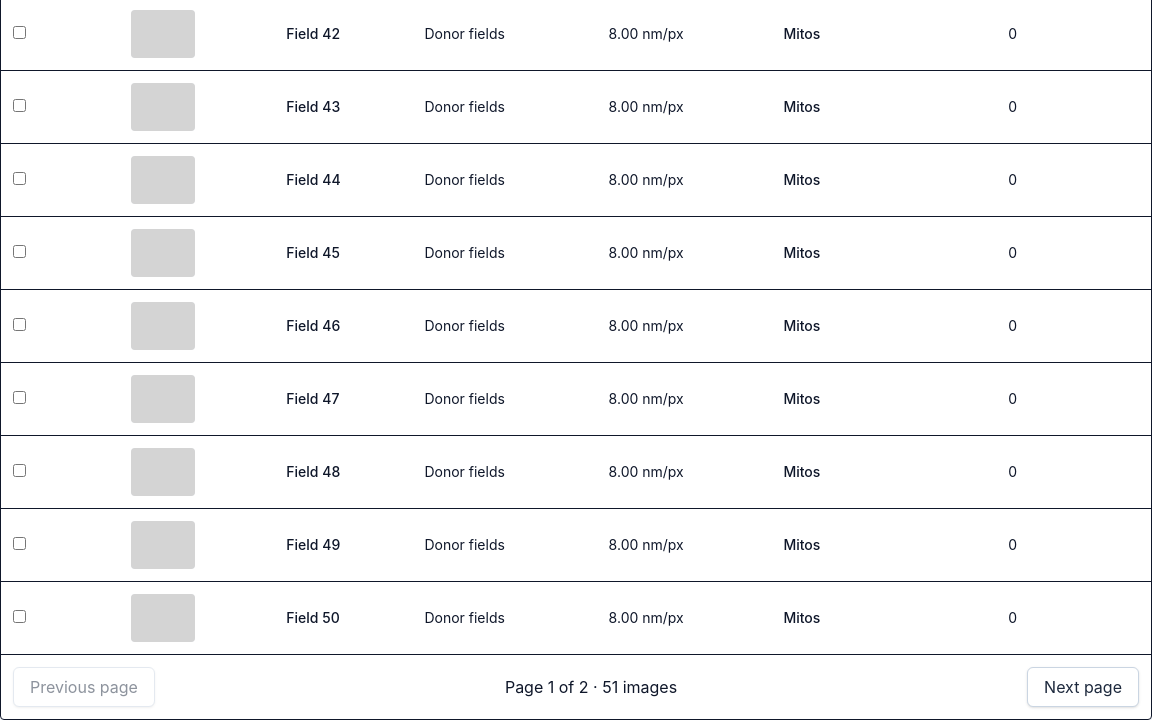
it: Experiment workbench › pages the browsing table and preserves the dataset cards view
(page scrolled)
Click the button "Next page" at [1083, 687], box [1027,667,1139,707]
(page scrolled)
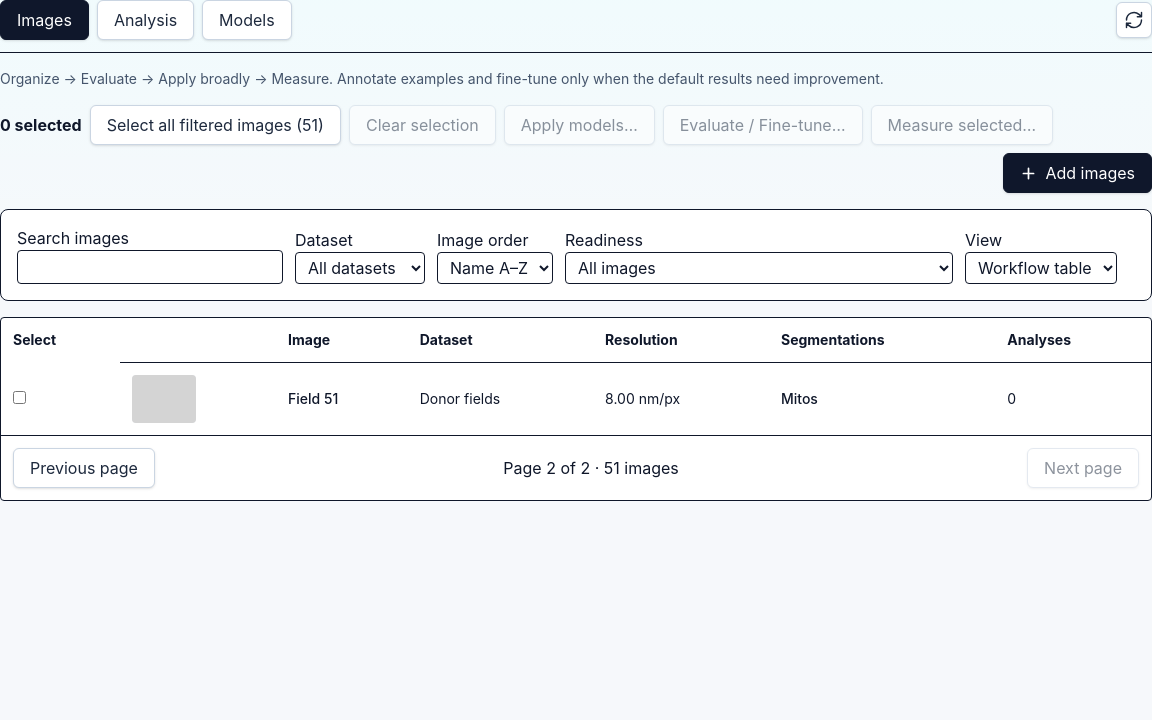
Expected: the text "Page 2 of 2 · 51 images" is shown, [503,456,679,480]
Select "Dataset cards" in the dropdown labelled "View" at [1041, 268], box [965,252,1117,284]
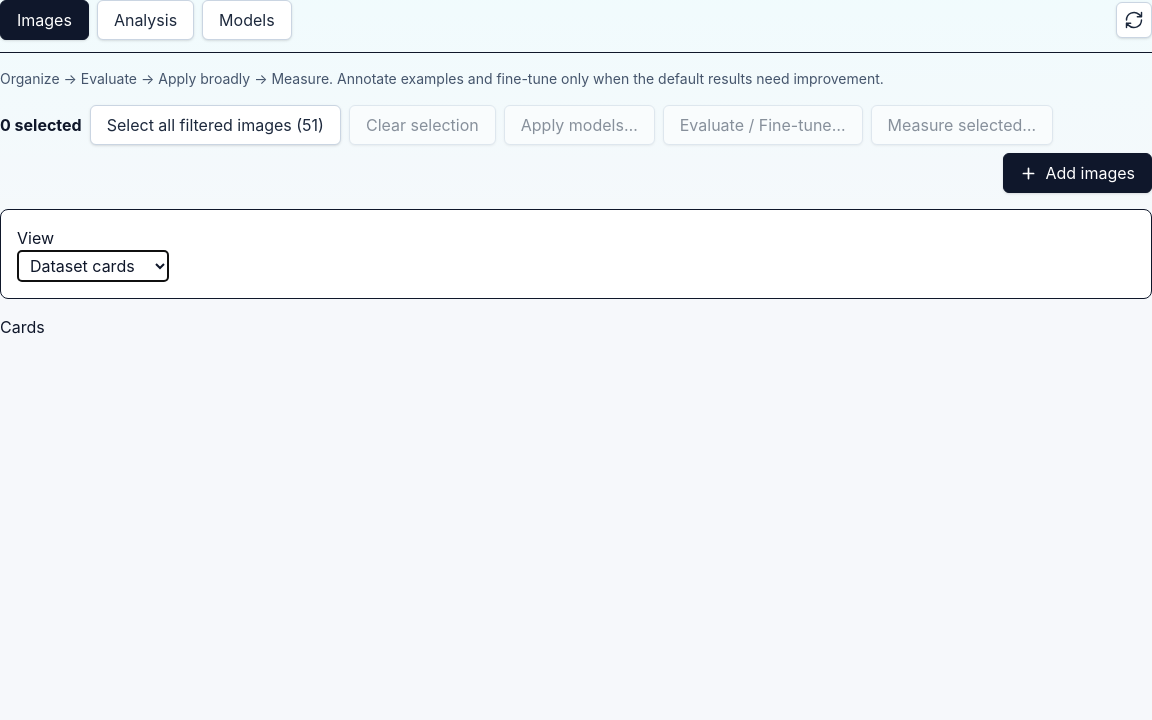
Expected: the text "Cards" is shown, [0,317,45,337]
Expected: the table is gone
